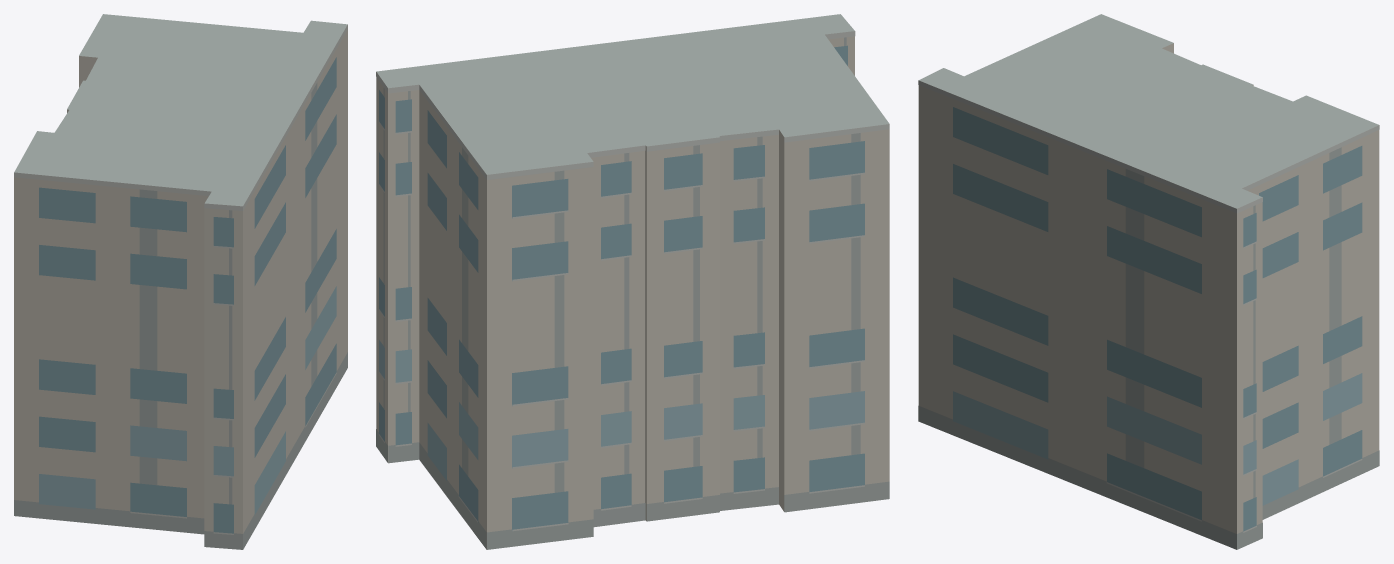
The model's file is survey-upis-32697709.glb.
3 renders of one model, left to right at view 1: azimuth 30°, elevation 25°; view 2: azimuth 150°, elevation 25°; view 3: azimuth 270°, elevation 25°, orthographic. The views are drawn at different scales.
Visible parts, largest first — view 1: survey-upis-32697709.tmp; view 2: survey-upis-32697709.tmp; view 3: survey-upis-32697709.tmp.
Boxes of the visible parts, x1,y1,x2,y2 form: survey-upis-32697709.tmp: (14,14,347,549); survey-upis-32697709.tmp: (376,14,889,549); survey-upis-32697709.tmp: (918,14,1379,549).
Bounding box in the file's own units: 21.32 × 17.4 × 21.31.
